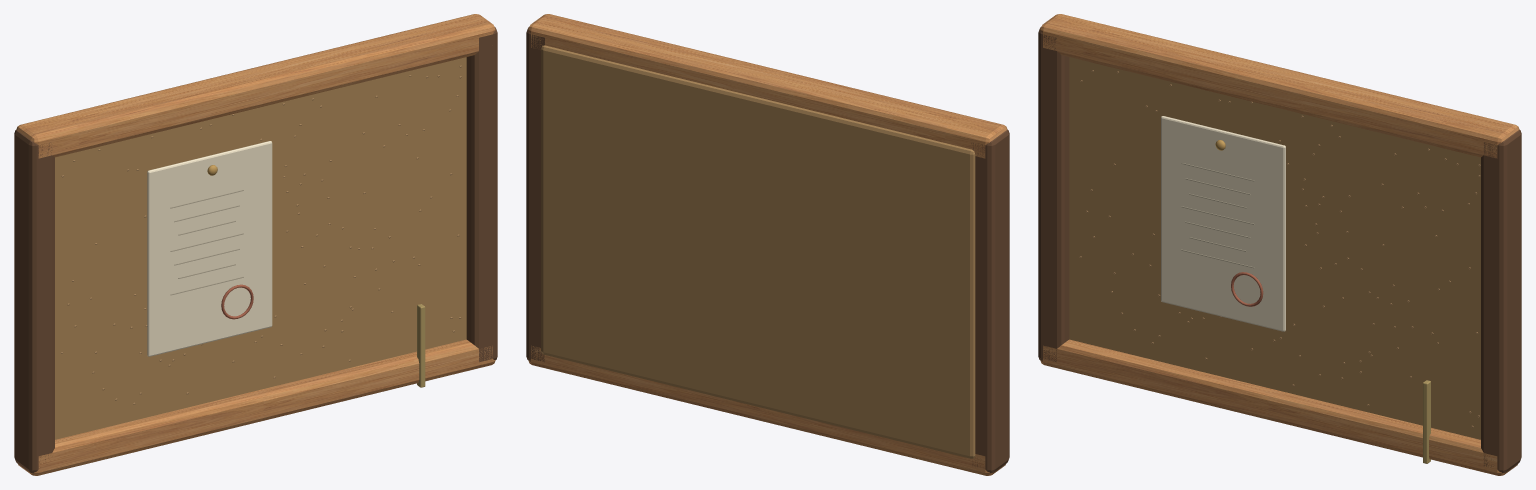
3 views of the same model, side by side, from view 1: azimuth 30°, elevation 25°; view 2: azimuth 150°, elevation 25°; view 3: azimuth 330°, elevation 25° (orthographic).
Parts seen in each view (by area): view 1: workshop_cork, workshop_oak, workshop_wood_dark, workshop_paper, workshop_linen_shade, workshop_ochre, workshop_wood_edge; view 2: workshop_cork, workshop_oak, workshop_wood_dark; view 3: workshop_cork, workshop_oak, workshop_wood_dark, workshop_paper, workshop_linen_shade, workshop_ochre, workshop_wood_edge.
Part boxes in pixels (left/top/right/bottom): workshop_cork: left=55, top=57, right=466, bottom=439; workshop_oak: left=16, top=14, right=495, bottom=475; workshop_wood_dark: left=14, top=27, right=497, bottom=473; workshop_paper: left=147, top=141, right=272, bottom=356; workshop_linen_shade: left=170, top=190, right=243, bottom=295; workshop_ochre: left=417, top=304, right=425, bottom=387; workshop_wood_edge: left=61, top=65, right=461, bottom=404; workshop_cork: left=541, top=45, right=975, bottom=458; workshop_oak: left=528, top=14, right=1007, bottom=475; workshop_wood_dark: left=526, top=27, right=1009, bottom=473; workshop_cork: left=1069, top=57, right=1480, bottom=439; workshop_oak: left=1040, top=14, right=1519, bottom=475; workshop_wood_dark: left=1038, top=27, right=1521, bottom=473; workshop_paper: left=1161, top=116, right=1285, bottom=331; workshop_linen_shade: left=1181, top=163, right=1254, bottom=268; workshop_ochre: left=1423, top=380, right=1430, bottom=463; workshop_wood_edge: left=1079, top=70, right=1480, bottom=427.
Bounding box in the file's own units: 2.37 × 1.66 × 0.1975.
9 materials, 1 textured.
